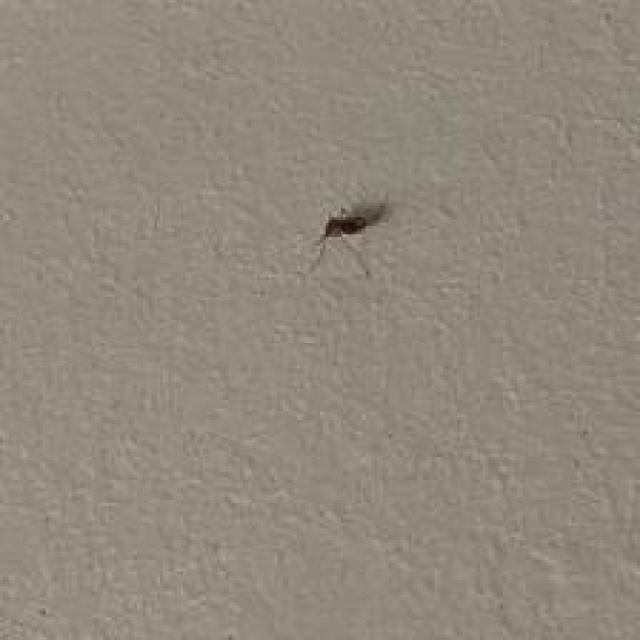Culex: (306, 195, 391, 278)
